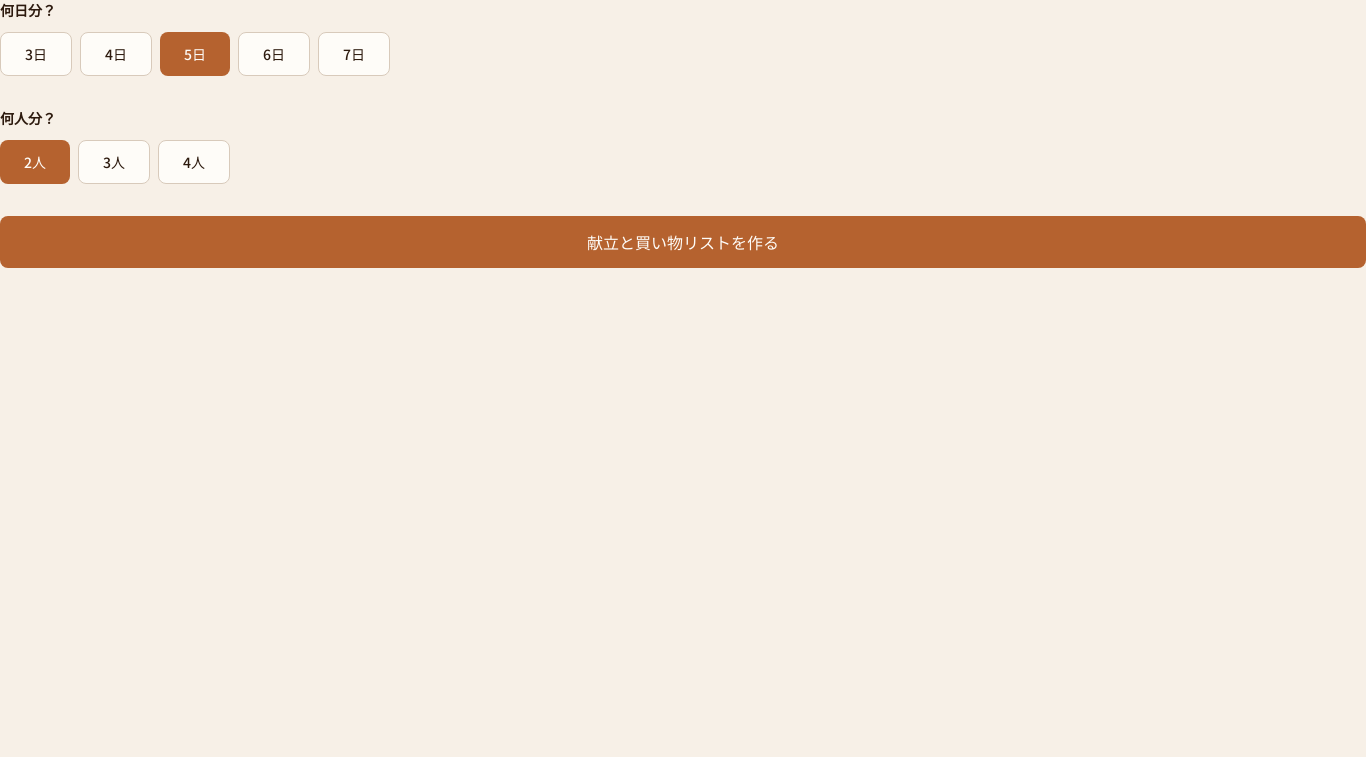
Test: MealPlanner › 選んだ日数ぶんの献立を出す
The width and height of the screenshot is (1366, 757).
Click the button "3日". click: click(36, 54)
box: [0,32,72,76]
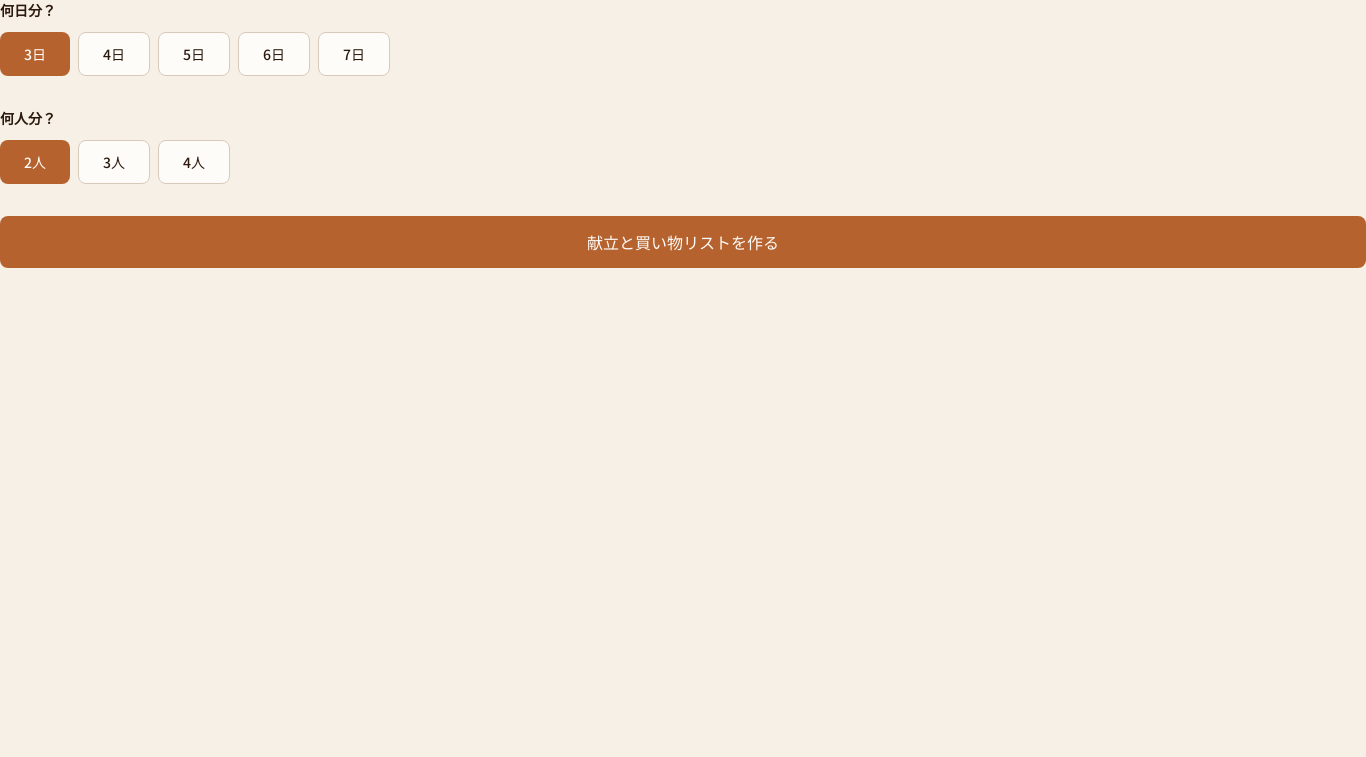
Click the button "献立と買い物リストを作る". click: click(683, 242)
box: [0,216,1365,268]
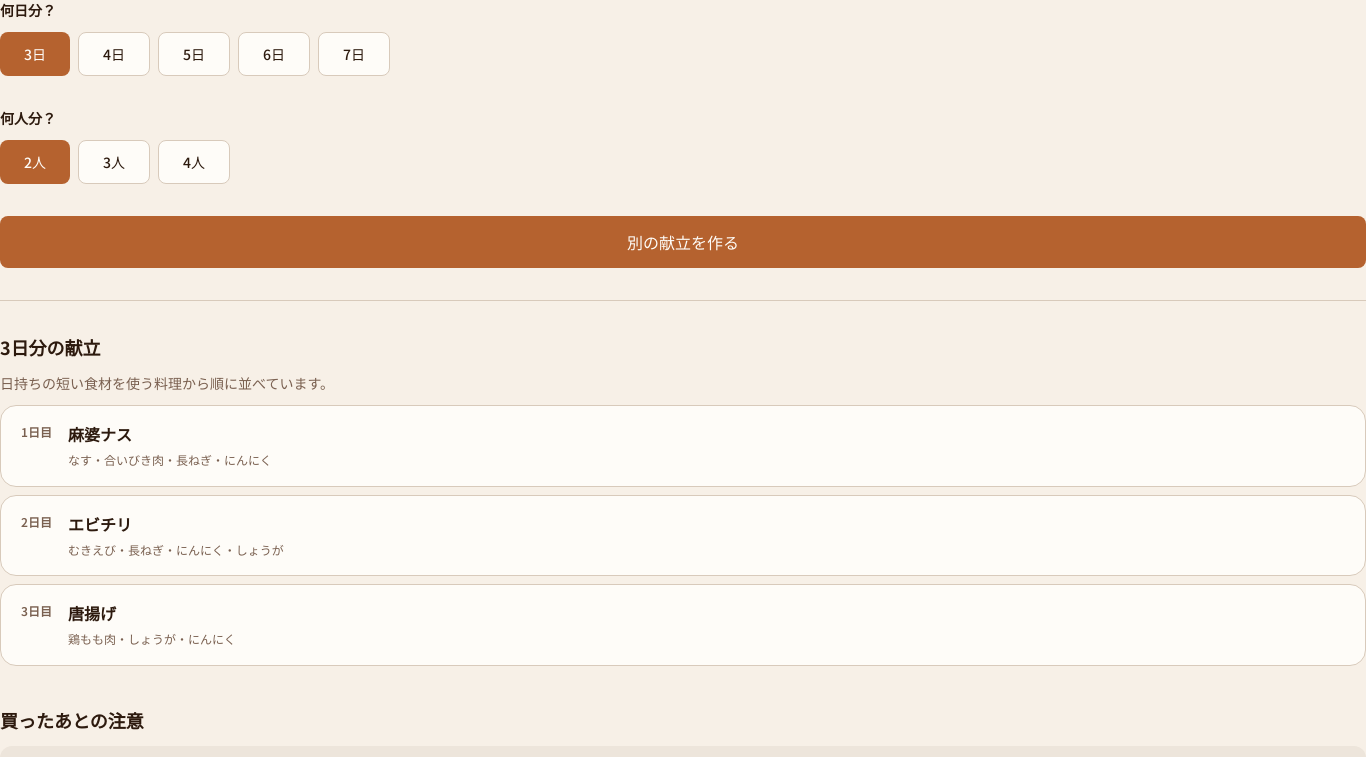
Now the heading "3日分の献立" is shown, box [0,334,101,360]
Now the text "1日目" is shown 3 times, box [21,423,52,440]; [21,512,52,530]; [21,602,52,619]
